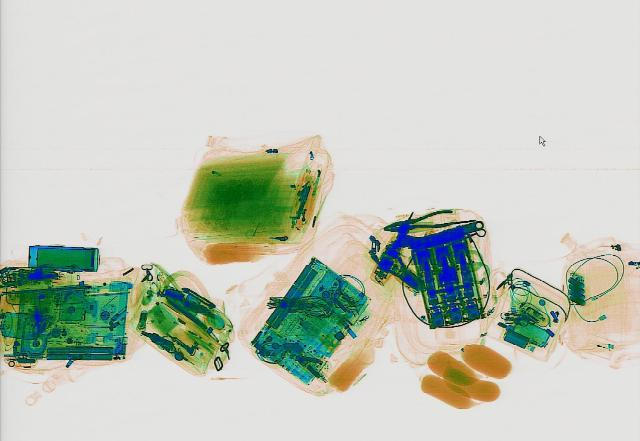Pliers: (379, 207, 459, 236)
Wrench: (385, 213, 489, 258)
